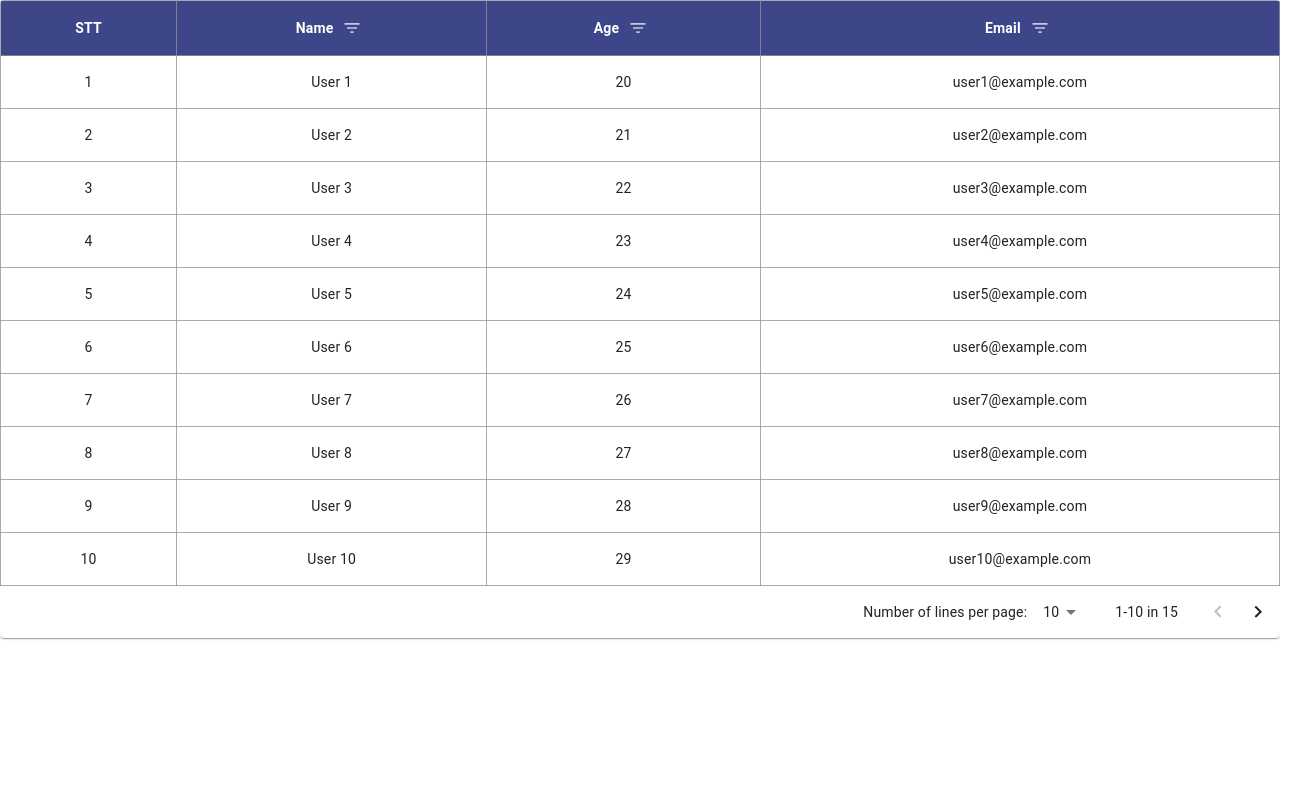
Test: DataTable Component - Unit Tests › Happy Path - Pagination › should change page when next button clicked
Expected: the text "User 1" is shown, [177,56,487,108]
Click next page
Click the button named "next page": x=1258, y=612 [1238,592,1278,632]
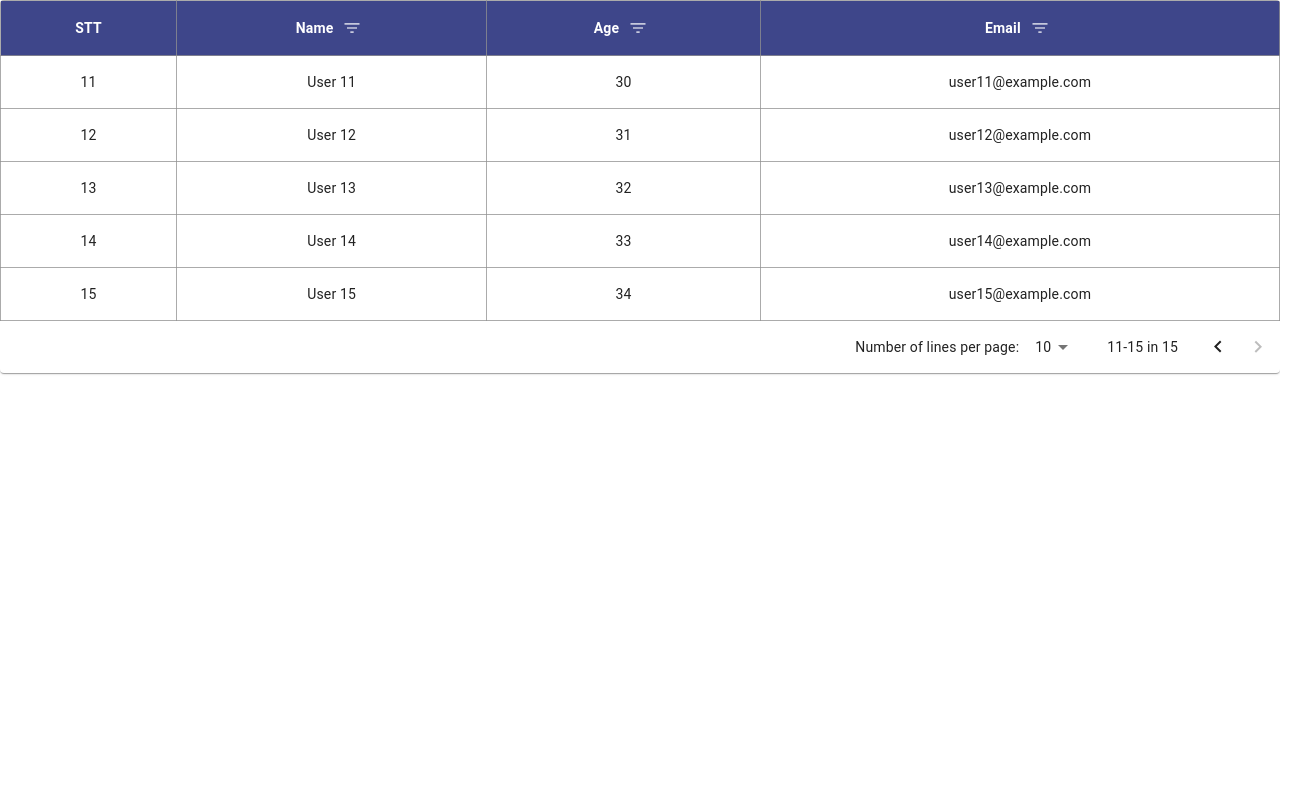
Now the text "User 11" is shown, box [177,56,487,108]
